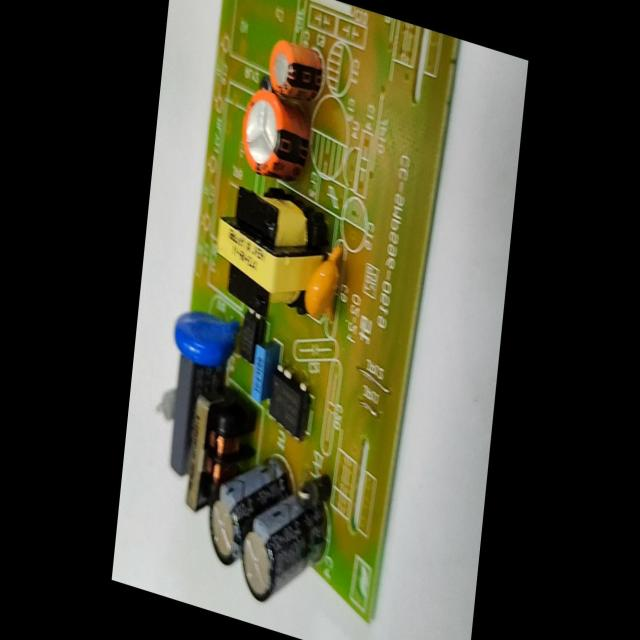Cap1: (235, 80, 318, 195)
Cap2: (263, 29, 331, 112)
Cap3: (205, 473, 248, 577)
Cap4: (234, 472, 332, 626)
MOSFET: (266, 358, 313, 448)
Mov: (170, 298, 241, 374)
Resistor: (153, 381, 178, 426)
Transformer: (214, 186, 320, 332), (183, 378, 227, 514)
